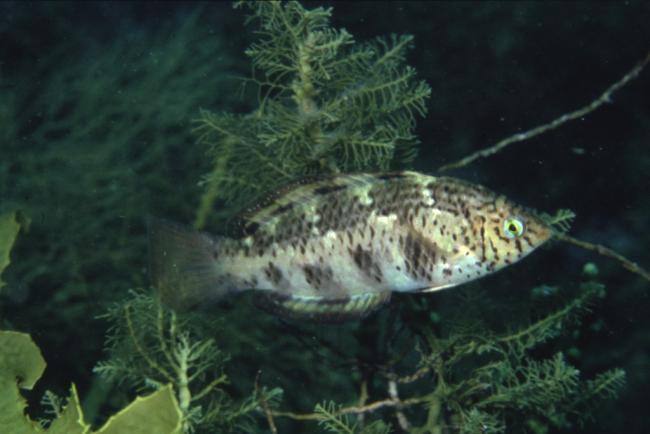fish: (145, 171, 556, 325)
